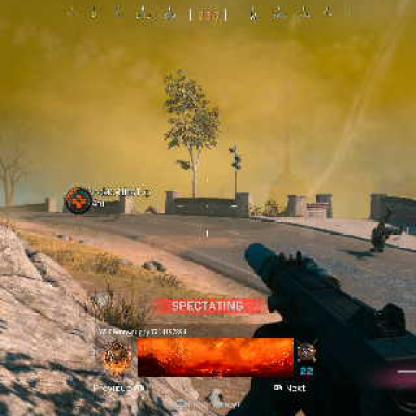enemy: (369, 219, 393, 252)
